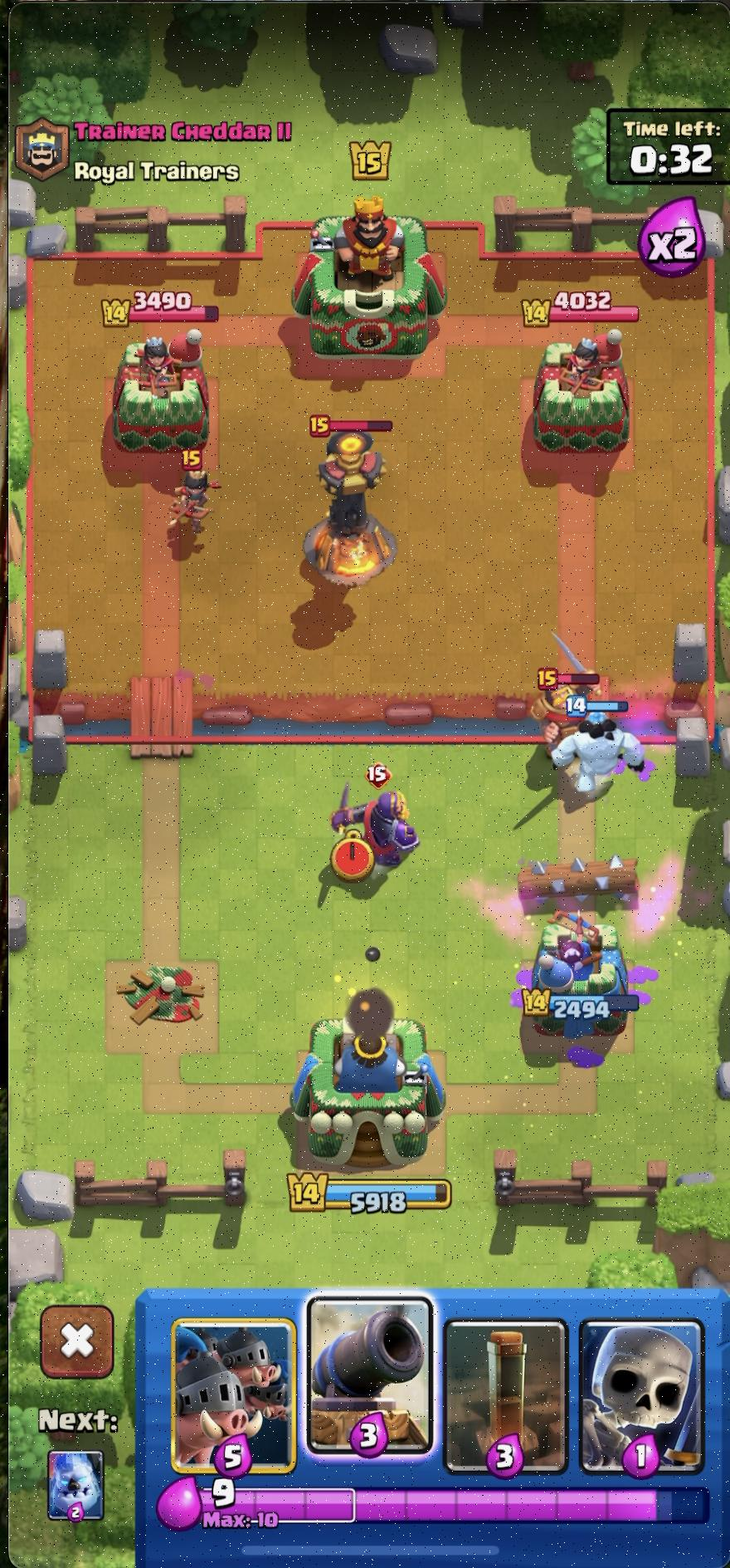card_icegolem: (46, 1448, 106, 1525)
card_royalhogs: (302, 1289, 438, 1466), (169, 1316, 298, 1477)
